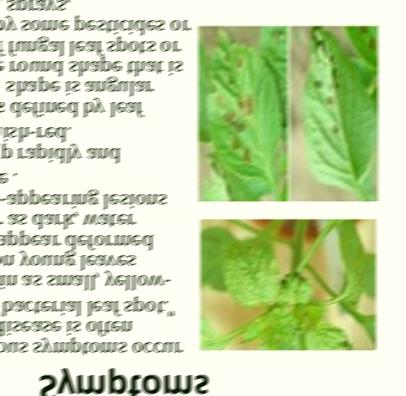Tomato leaf bacterial spot: (301, 34, 374, 199), (209, 35, 281, 197), (222, 229, 285, 304)
